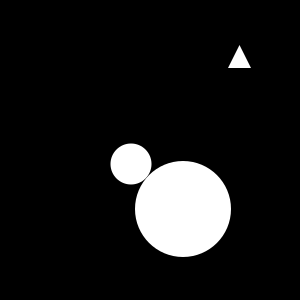rectangle: (135, 161, 231, 257), (110, 143, 152, 184)
triangle: (228, 45, 251, 68)
